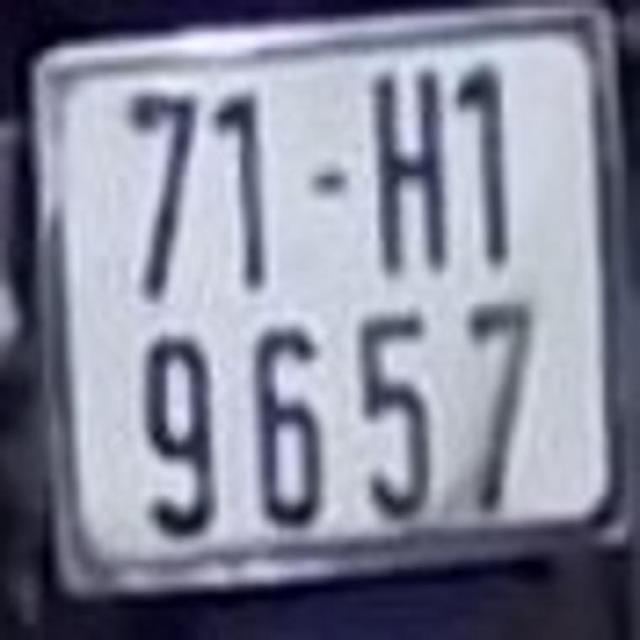1: (203, 79, 286, 291), (455, 56, 522, 270)
5: (355, 310, 439, 526)
6: (248, 324, 332, 524)
7: (113, 87, 204, 299), (458, 295, 536, 512)
9: (138, 334, 224, 544)
H: (366, 63, 454, 276)
